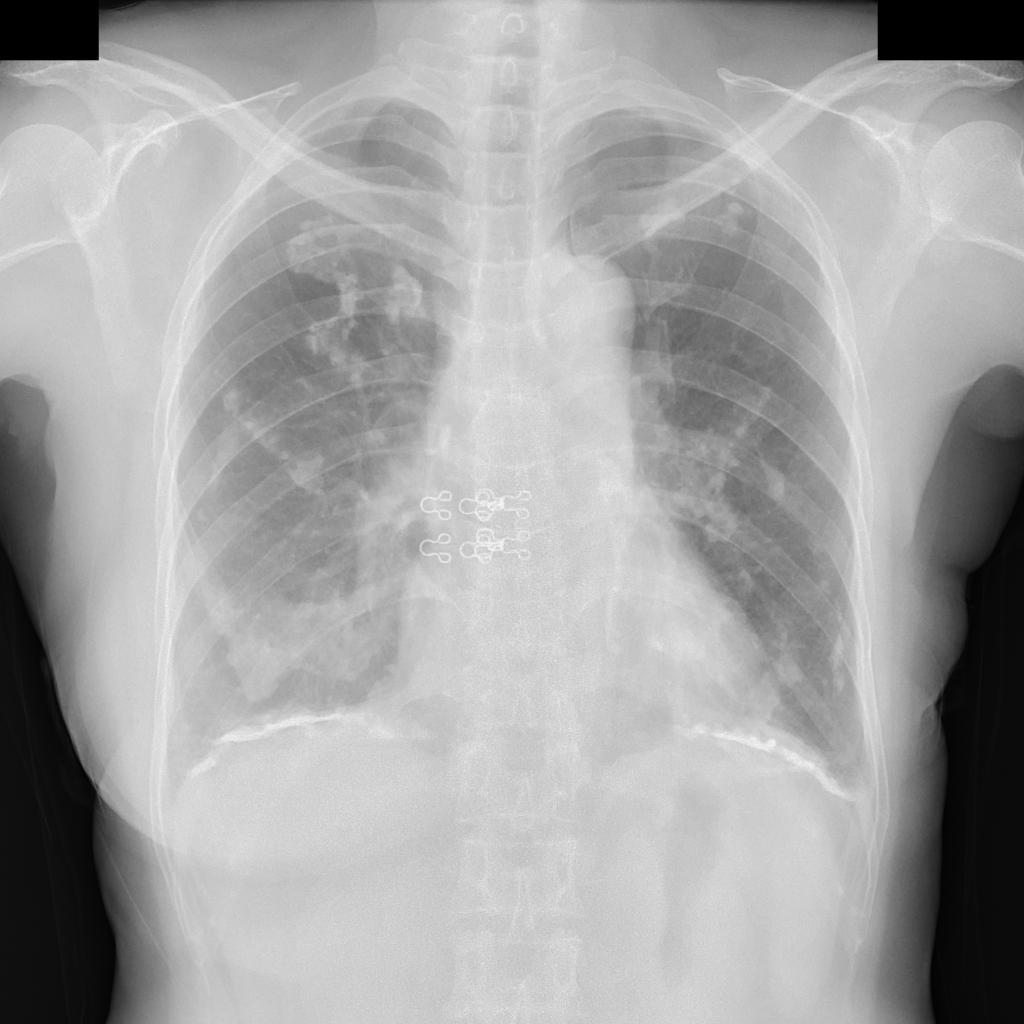Nodule: (642, 197, 693, 237), (718, 179, 742, 241)
